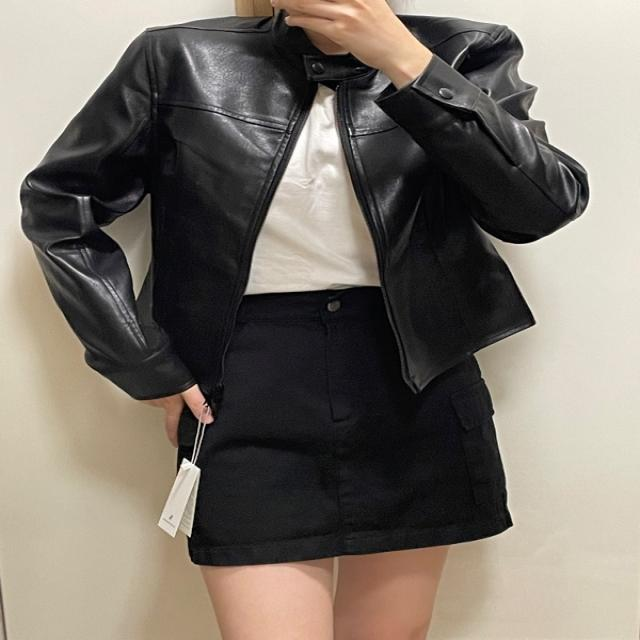jacket: (20, 9, 591, 397)
skirt: (186, 285, 523, 565)
